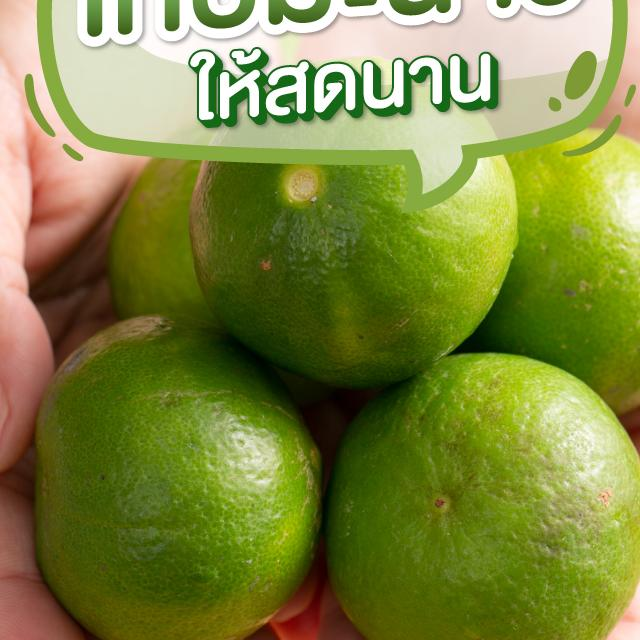lime: (180, 38, 527, 401), (13, 295, 343, 640), (320, 330, 640, 640), (106, 93, 361, 357), (438, 103, 640, 420)
